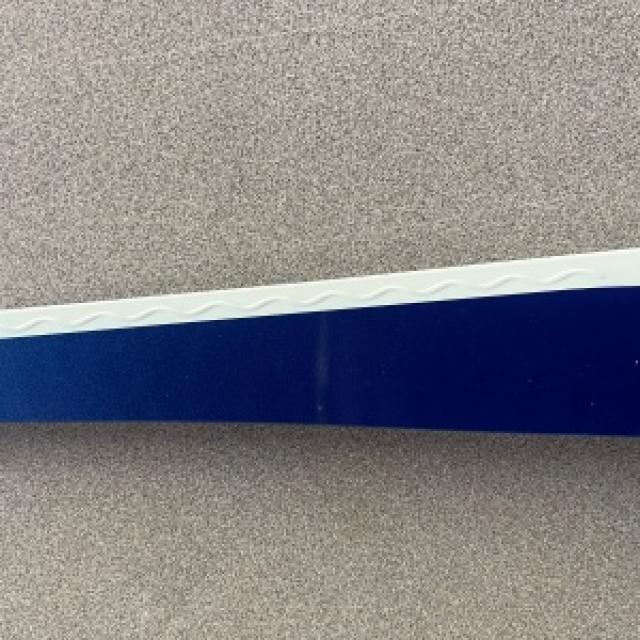healthy: (0, 247, 638, 433)
